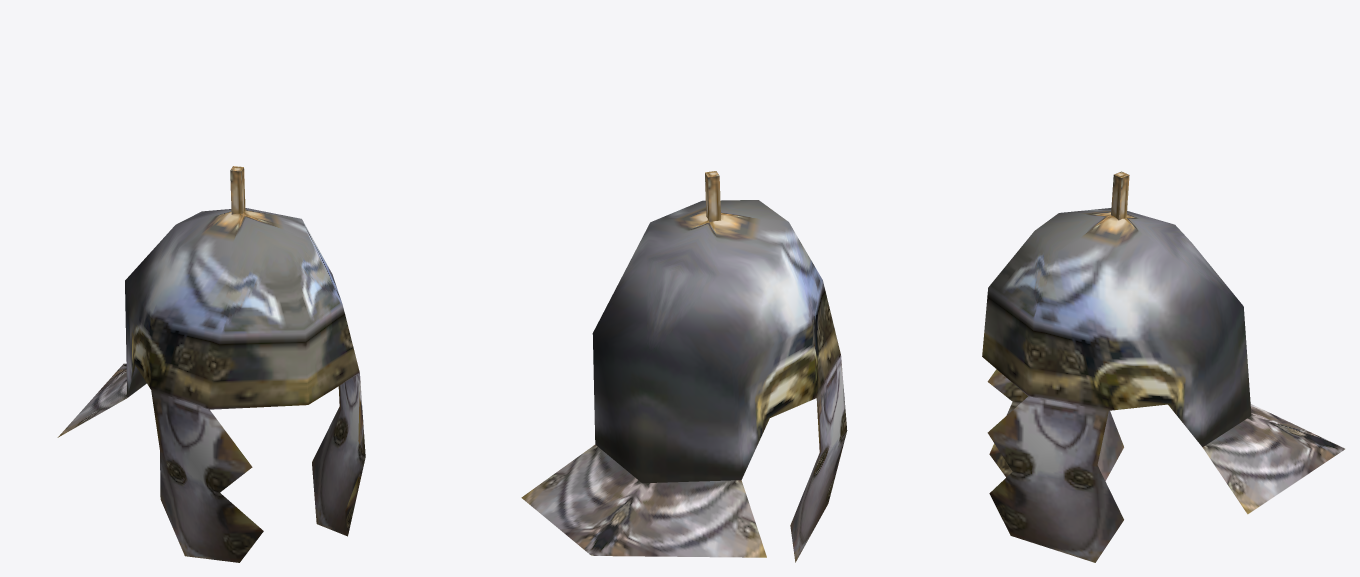
The model's file is rome_gallicg_cent_a.dae.
The picture shows the model from 3 angles, left to right: view 1: azimuth 30°, elevation 25°; view 2: azimuth 150°, elevation 25°; view 3: azimuth 270°, elevation 25°; orthographic projection. The views are drawn at different scales.
Parts seen in each view (by area): view 1: Object17-Pivot; view 2: Object17-Pivot; view 3: Object17-Pivot.
Boxes of the visible parts, box(x1,y1,x2,y2) form: Object17-Pivot: box(57, 166, 365, 562); Object17-Pivot: box(521, 171, 847, 562); Object17-Pivot: box(982, 171, 1345, 562).
Bounding box in the file's own units: 1.11 × 0.8613 × 1.26.
